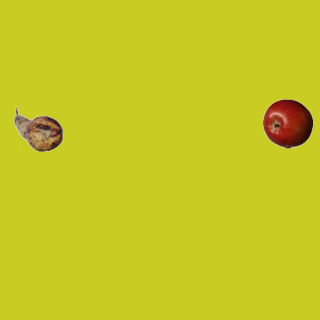Apple Braeburn: (262, 98, 312, 148)
Pear Abate: (13, 104, 63, 154)
